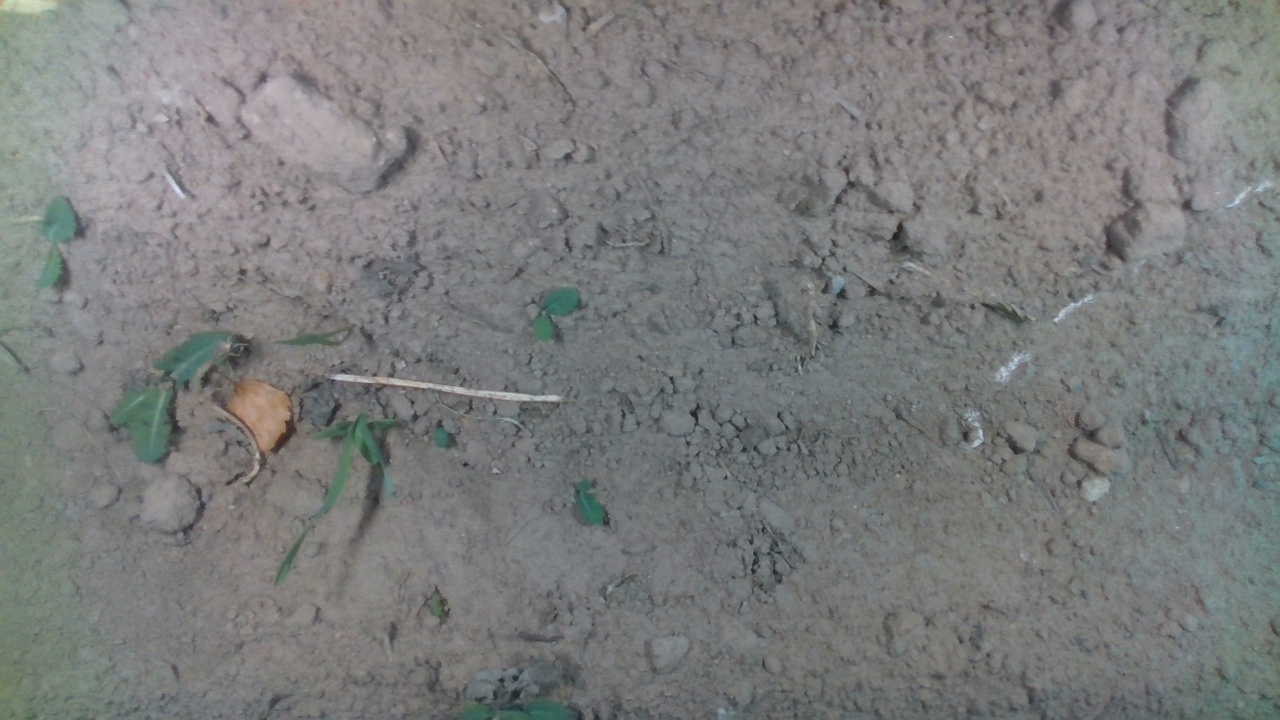weed: (529, 284, 582, 343)
